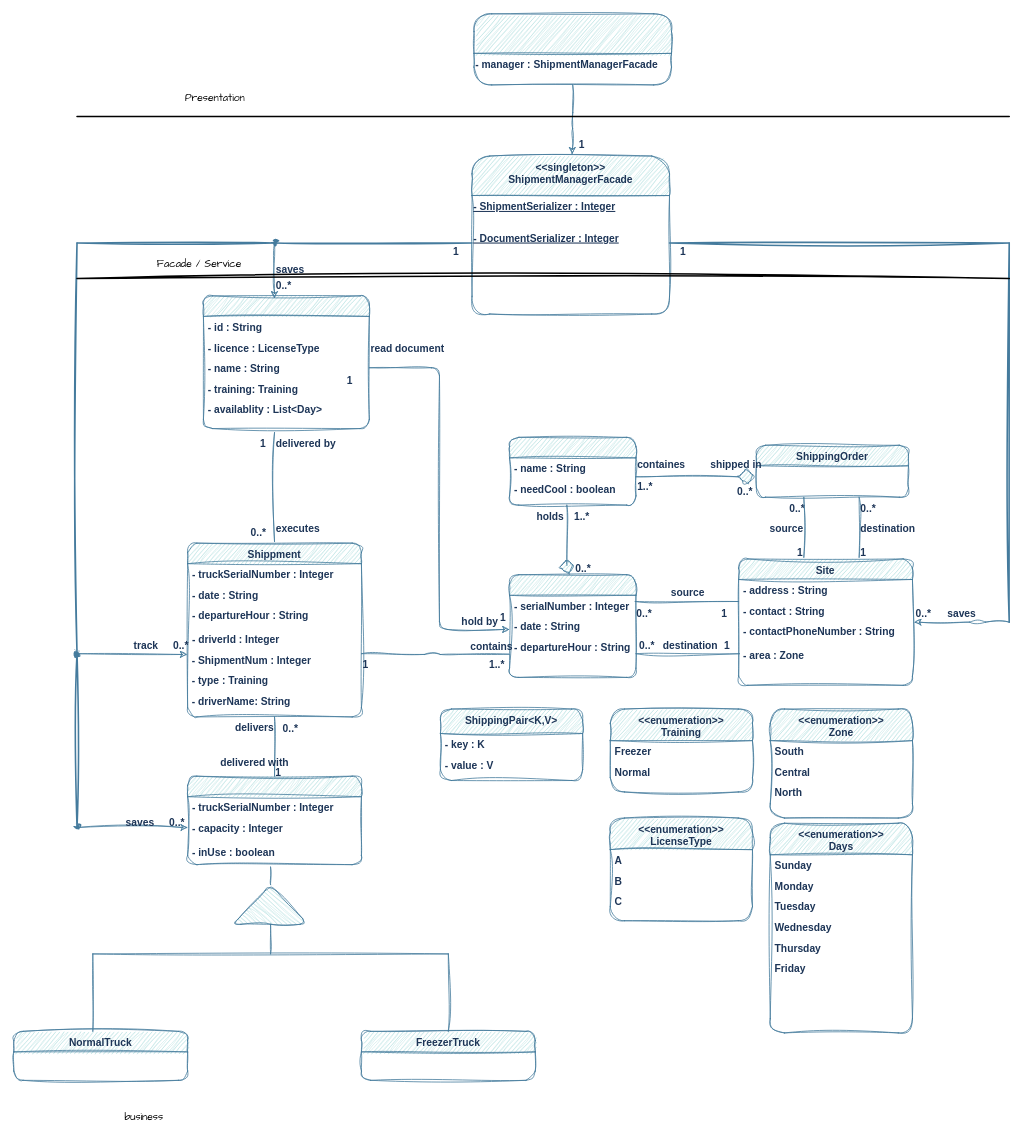
Image size: 1022x1141. Some labels were removed from this diagram. The box of each missing label's shape, as (x1, y1, x2, y2) in pixels:
CLI: (473, 13, 672, 85)
ShippingDocument: (509, 574, 636, 677)
ShippingDriver: (203, 295, 369, 429)
ShippingItem: (509, 437, 636, 505)
ShippingTruck: (187, 775, 361, 865)
